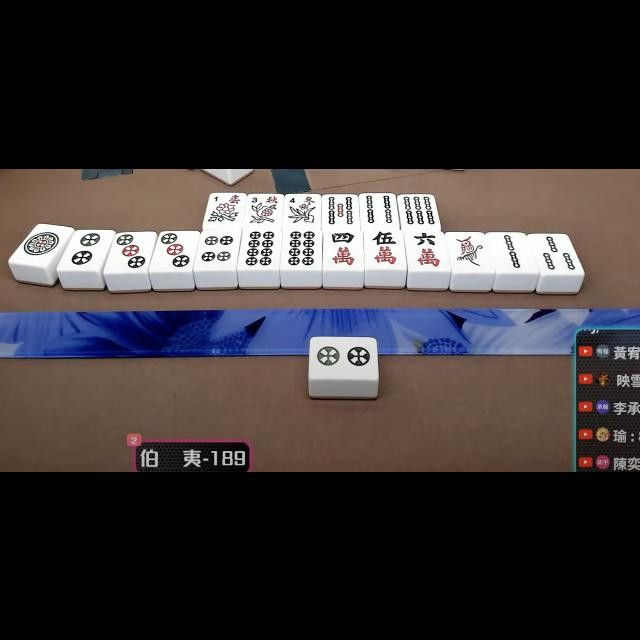b1: (450, 232, 490, 270)
b2: (493, 232, 531, 272)
b3: (534, 234, 578, 272)
b4: (360, 193, 396, 227)
b5: (322, 194, 358, 226)
b6: (400, 194, 438, 226)
c4: (322, 230, 362, 268)
c5: (365, 230, 405, 268)
c6: (406, 228, 446, 270)
d1: (17, 225, 64, 265)
d2: (308, 336, 378, 376), (62, 230, 110, 270)
d3: (107, 232, 153, 272), (154, 230, 196, 270)
d4: (197, 230, 239, 268)
d8: (240, 228, 280, 268), (282, 229, 322, 269)
s1: (208, 192, 245, 204)
s3: (246, 192, 282, 204)
s4: (284, 192, 320, 205)
